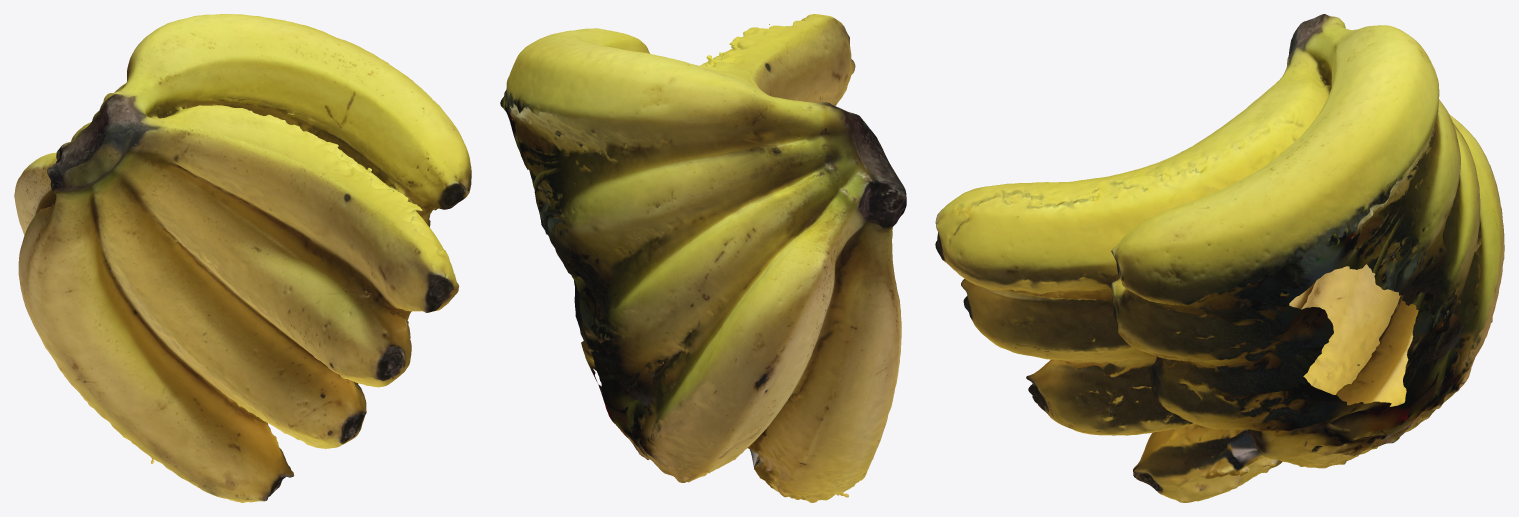
File: bananas.glb
The picture shows the model from 3 angles, left to right: view 1: azimuth 30°, elevation 25°; view 2: azimuth 150°, elevation 25°; view 3: azimuth 270°, elevation 25°; orthographic projection. The views are drawn at different scales.
Visible parts, largest first — view 1: Model; view 2: Model; view 3: Model.
Boxes of the visible parts, x1,y1,x2,y2 form: Model: [14, 14, 471, 502]; Model: [500, 14, 906, 502]; Model: [935, 14, 1504, 502].
Size of the model in its own units: 2.46 by 2.62 by 2.87.
1 material, 1 textured.
